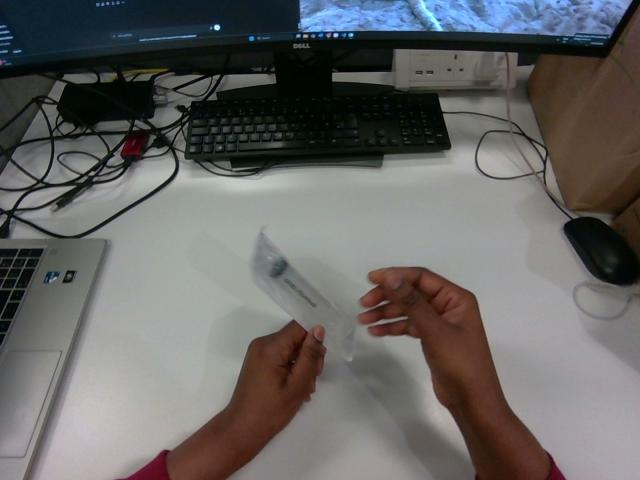syringe: (252, 232, 354, 360)
